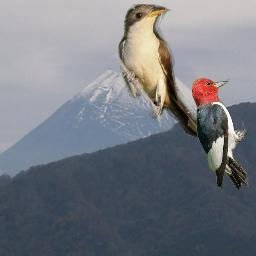Cuckoo: (118, 4, 220, 152)
Woodpecker: (192, 77, 250, 190)
